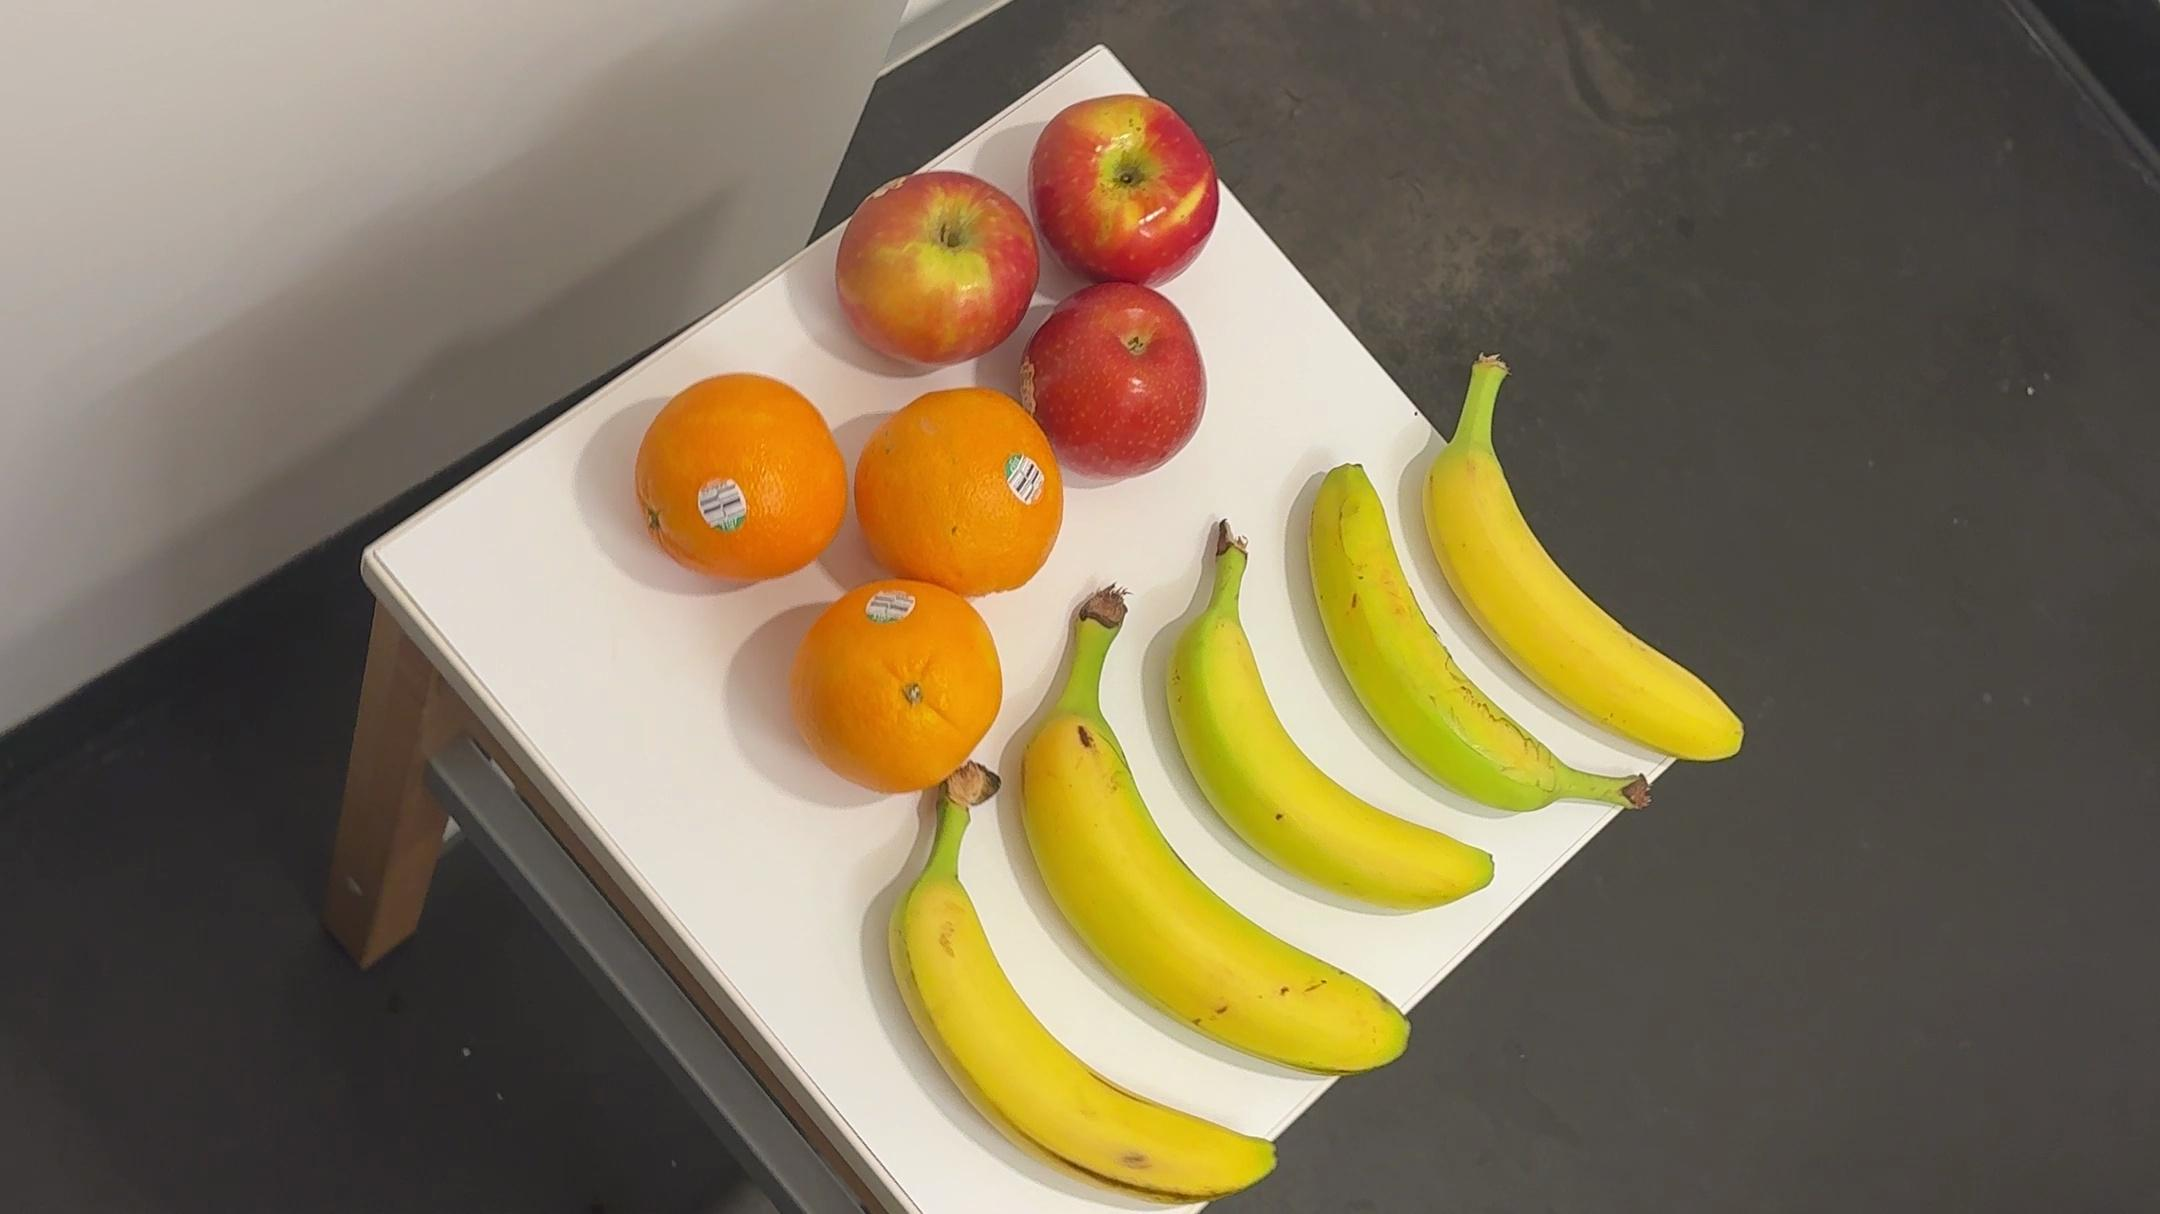apple: (835, 157, 1040, 361), (1027, 93, 1225, 286), (1021, 272, 1212, 467)
banana: (998, 588, 1424, 1088), (872, 763, 1280, 1204), (1409, 343, 1754, 764), (1153, 521, 1504, 925), (1288, 465, 1665, 827)
orange: (619, 359, 846, 583), (852, 383, 1068, 603), (794, 588, 1004, 800)
